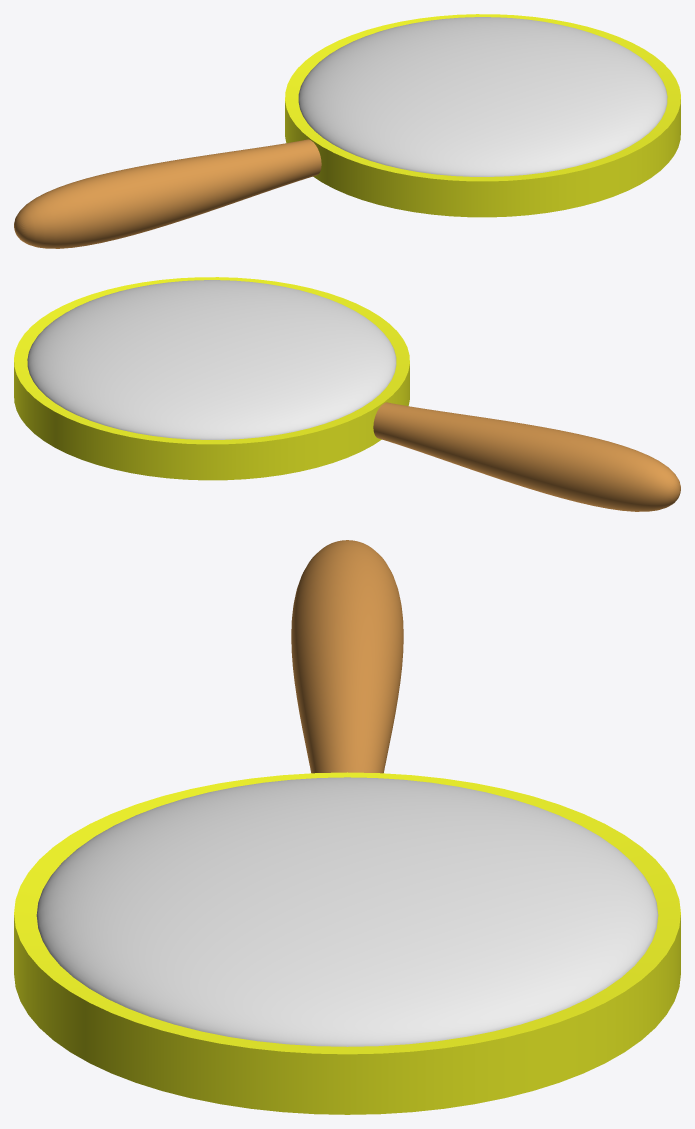
The model's file is Magnify Glass.fbx.
3 views of the same model, one above another, from view 1: azimuth 30°, elevation 25°; view 2: azimuth 150°, elevation 25°; view 3: azimuth 270°, elevation 25° (orthographic). The views are drawn at different scales.
Parts seen in each view (by area): view 1: Sphere, Tube, Curve; view 2: Sphere, Tube, Curve; view 3: Sphere, Tube, Curve.
Boxes of the visible parts, x1=… form: Sphere: x1=298, y1=17, x2=667, y2=176; Tube: x1=285, y1=14, x2=680, y2=217; Curve: x1=14, y1=139, x2=321, y2=248; Sphere: x1=27, y1=280, x2=396, y2=439; Tube: x1=14, y1=277, x2=409, y2=480; Curve: x1=373, y1=402, x2=680, y2=511; Sphere: x1=36, y1=777, x2=658, y2=1046; Tube: x1=14, y1=772, x2=680, y2=1114; Curve: x1=291, y1=540, x2=403, y2=773.
Size of the model in its own units: 410 by 59.05 by 220.
